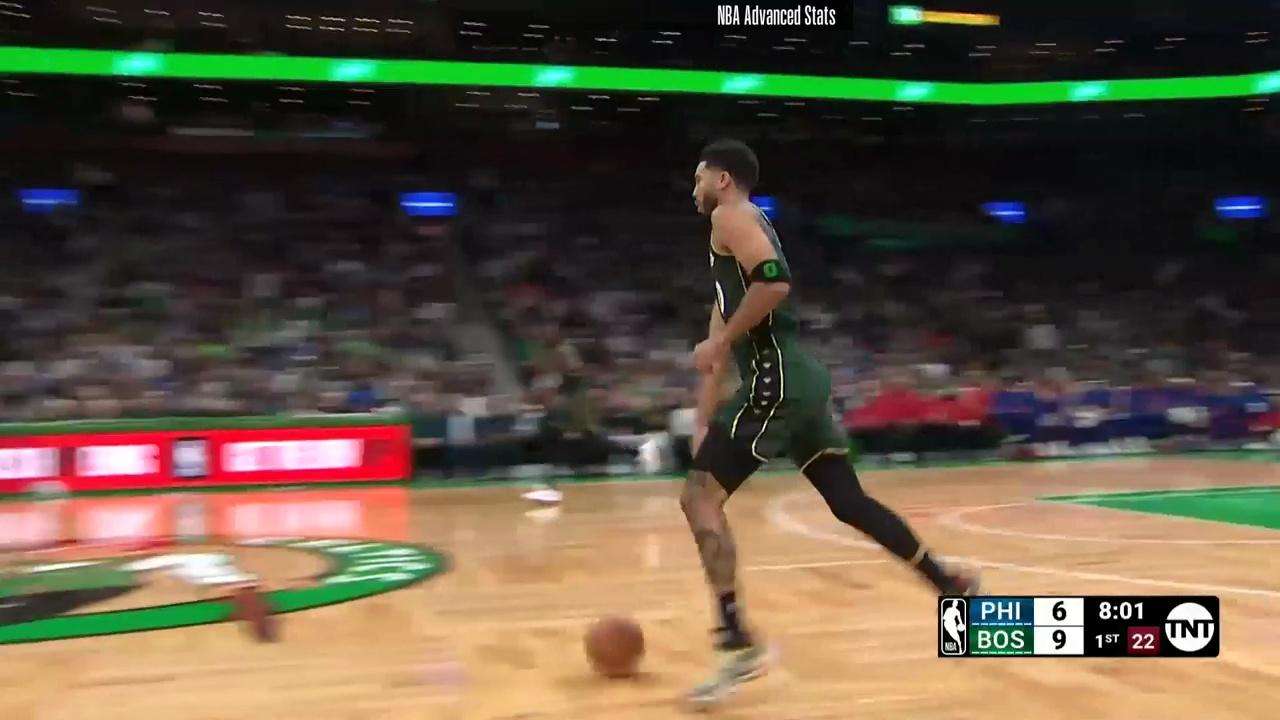Ball: (583, 612, 645, 679)
Dribble: (590, 660, 656, 694)
Person: (672, 132, 1008, 720), (524, 314, 661, 525)
